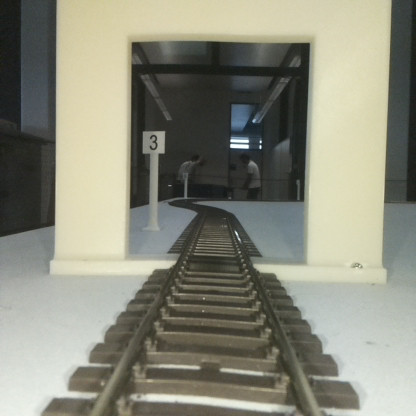white-info-3: (142, 130, 164, 228)
